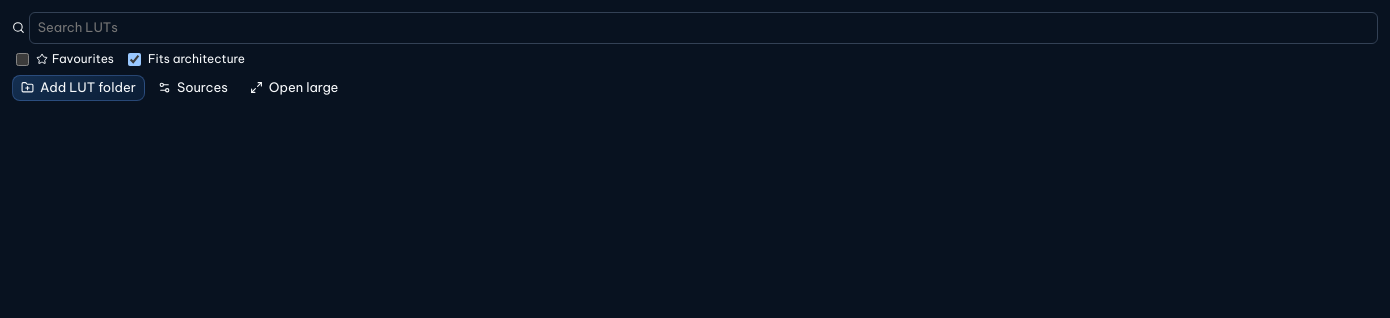
Test: LUT library › adds a folder and shows the scan summary (mock backend)
The image size is (1390, 318).
Click the button with test id "lut-add-folder": coordinates (78, 88) top-left (12, 74), bottom-right (145, 100)
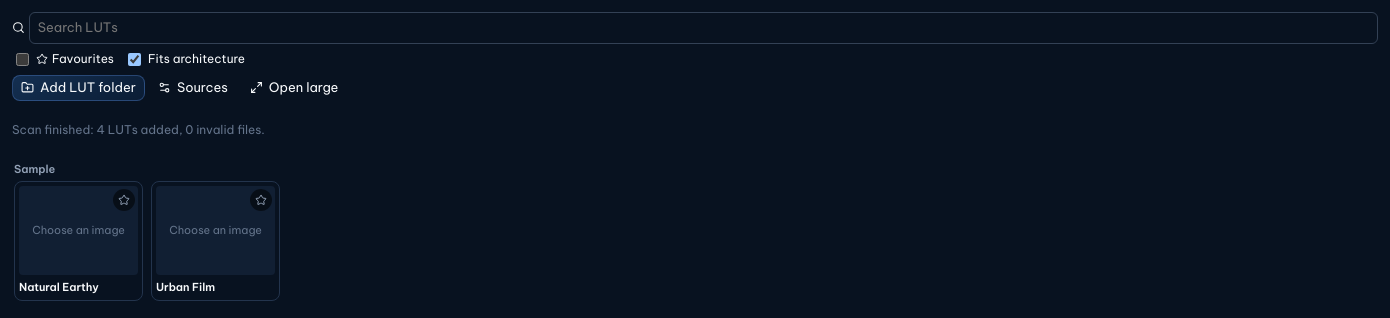
Now the message with test id "lut-summary" reads "Scan finished: 4 LUTs added, 0 invalid files.", box top-left (12, 122), bottom-right (265, 136)
